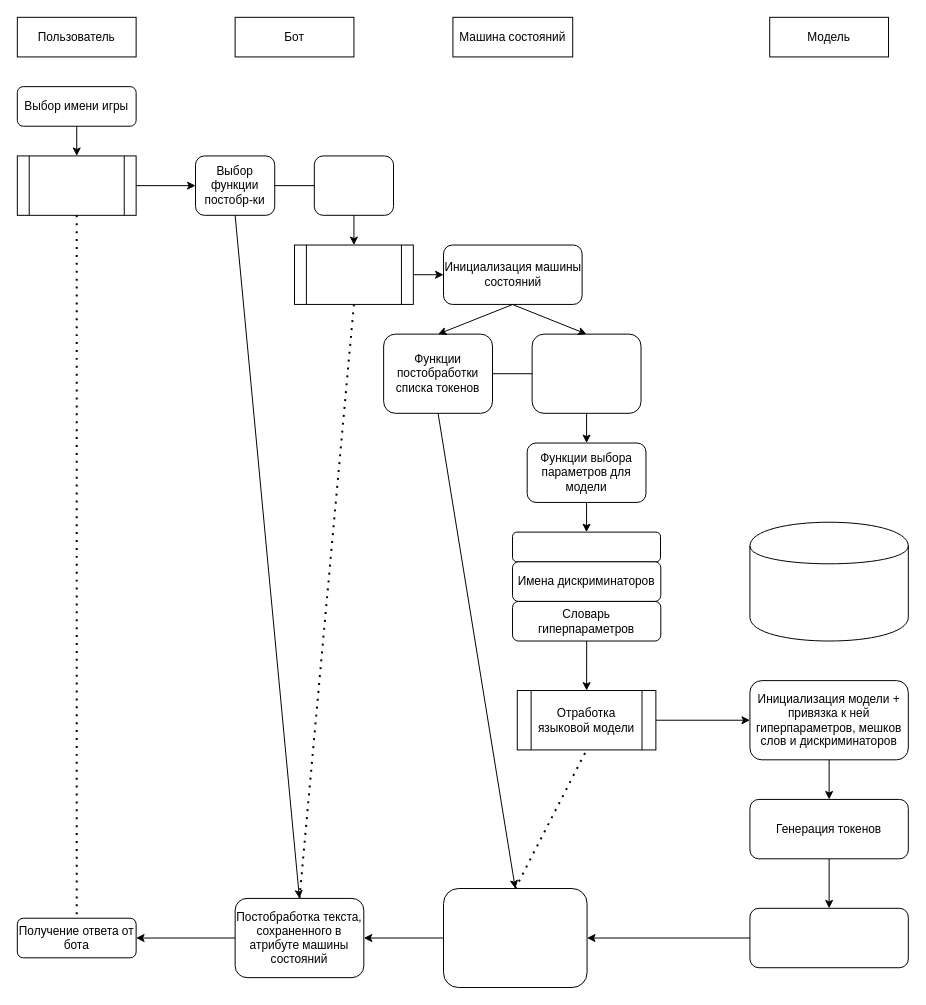
Image size: 926x1005. Some labels were removed from this diagram. The shapes that lost their labels are listed below. From the top down, each one's centre as x and y in pixels, then its label:
At point (76, 185): "Отработка бота".
At point (353, 185): "Выбор машины состояний".
At point (353, 274): "Отработка машины состояний".
At point (586, 373): "Выбор модели и токенизатора".
At point (586, 546): "Имена мешков слов".
At point (828, 581): "GPU-сервер".
At point (515, 938): "Постобработка токенов, получение текста и сохранение текста в атрибутах машины".
At point (828, 937): "Получение списка токенов".
